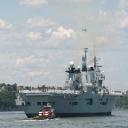Portanaves: (16, 44, 126, 121)
